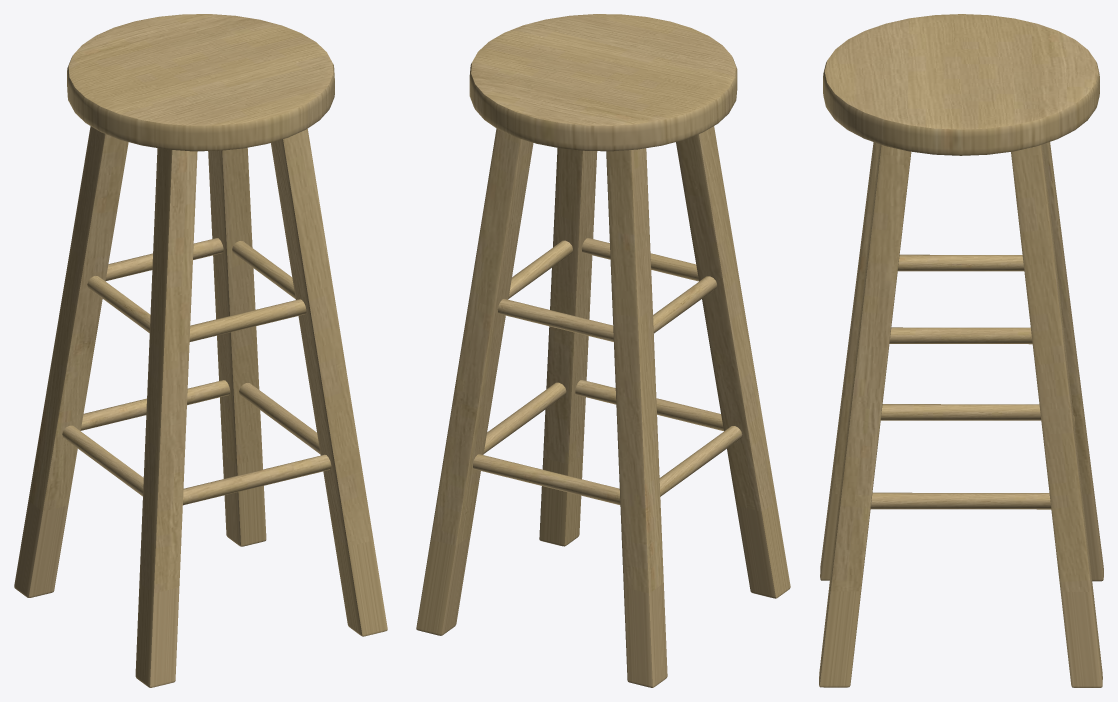
The model's file is sh_blend_swap_cc_0_stool2.glb.
The picture shows the model from 3 angles, left to right: view 1: azimuth 30°, elevation 25°; view 2: azimuth 150°, elevation 25°; view 3: azimuth 270°, elevation 25°; orthographic projection. The views are drawn at different scales.
Bounding box in the file's own units: 0.361 × 0.78 × 0.361.
1 material, 1 textured.
